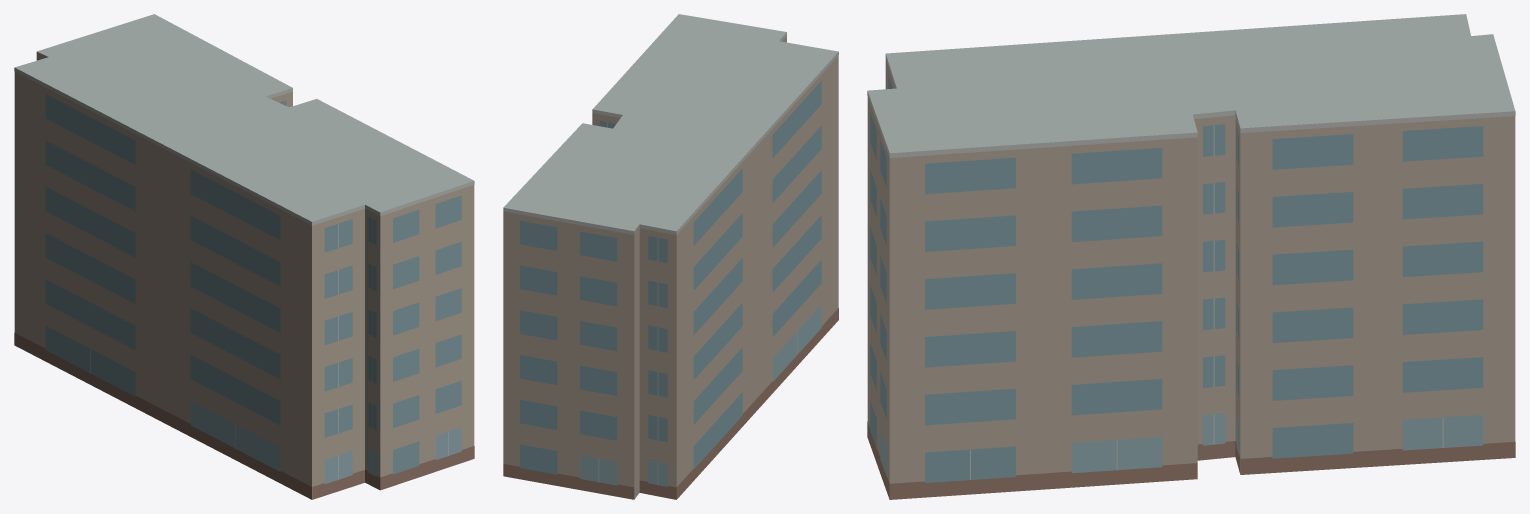
Rendered from survey-upis-32745615.glb.
The picture shows the model from 3 angles, left to right: view 1: azimuth 30°, elevation 25°; view 2: azimuth 150°, elevation 25°; view 3: azimuth 270°, elevation 25°; orthographic projection. The views are drawn at different scales.
Parts seen in each view (by area): view 1: survey-upis-32745615.tmp; view 2: survey-upis-32745615.tmp; view 3: survey-upis-32745615.tmp.
Boxes of the visible parts, box(x1,y1,x2,y2) form: survey-upis-32745615.tmp: box(14, 14, 474, 499); survey-upis-32745615.tmp: box(503, 14, 838, 499); survey-upis-32745615.tmp: box(867, 14, 1515, 499).
Bounding box in the file's own units: 15.35 × 17.8 × 30.17.
